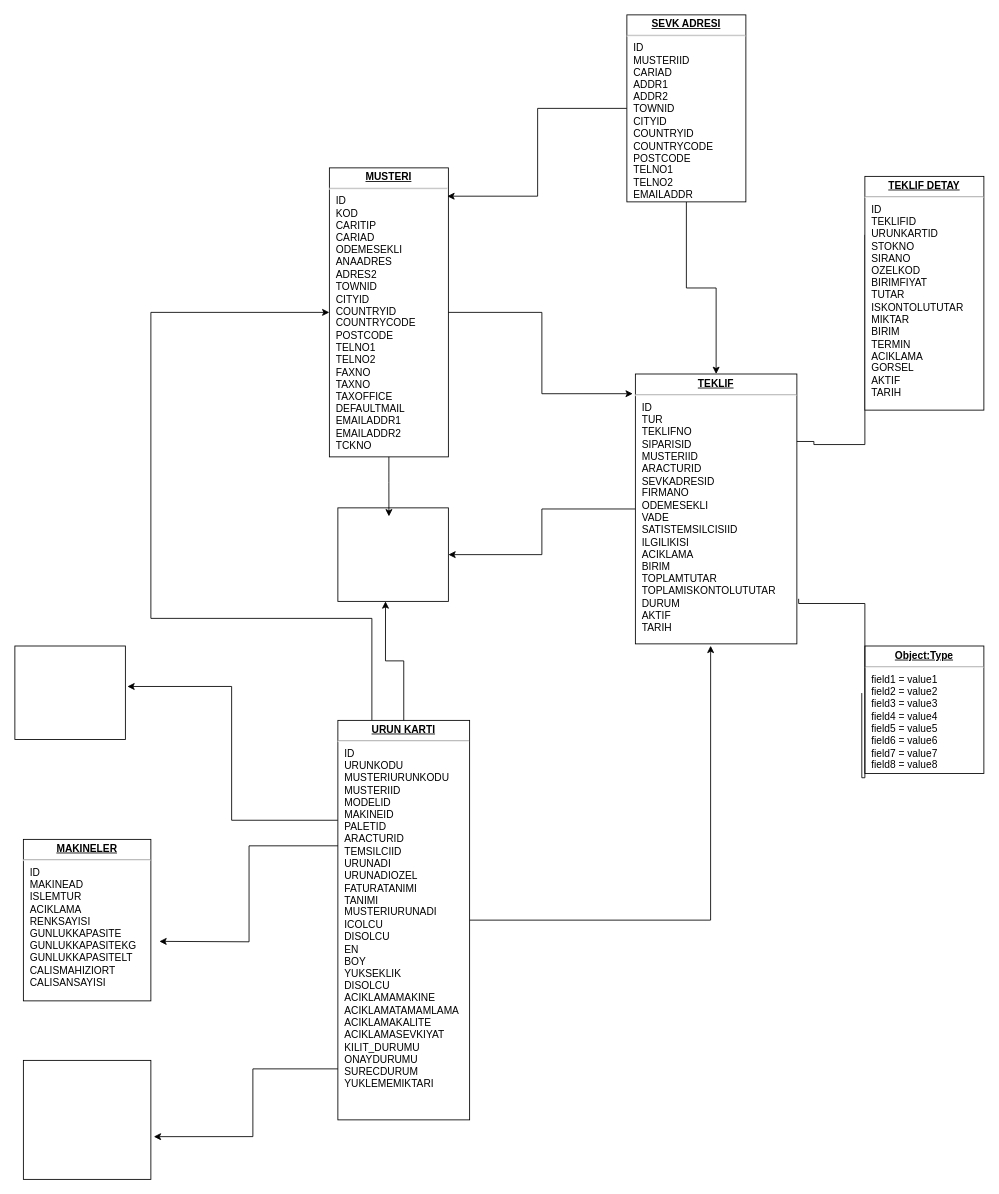
The diagram is 999 pixels wide and 1194 high, and some of its shapes have lost their labels. Here are the shapes that lost their labels. From the top down, the centre of each, then its label:
At pixel 392 554: "ARAÇ TURU ID TUR ORTALAMATONAJ M2 M3".
At pixel 69 692: "MODEL TURU ID MODELAD KODU FORMUL".
At pixel 87 1119: "PALET ID DEPOADI PALETCODE ACIKLAMA CINS STOKADI BMIKTAR".
